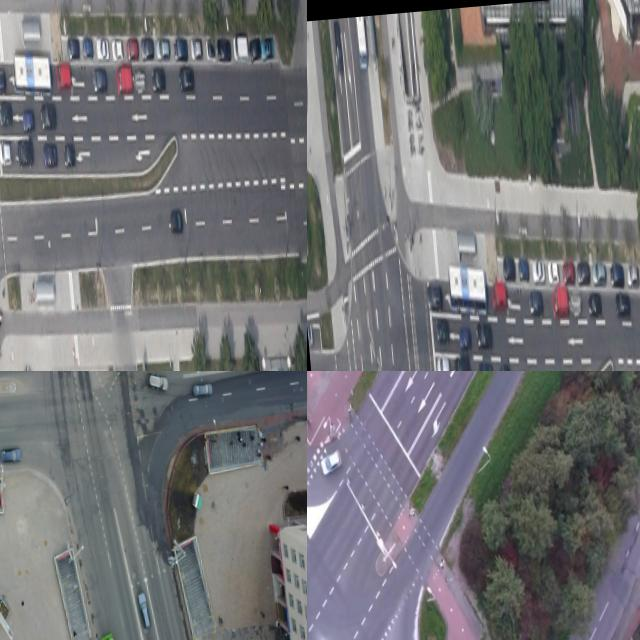UAI: (333, 20, 345, 80), (135, 589, 152, 631), (319, 449, 343, 476), (551, 285, 569, 319), (490, 278, 507, 312), (115, 64, 133, 95), (476, 320, 494, 351), (145, 371, 169, 393), (426, 280, 443, 311), (17, 137, 33, 167), (55, 62, 71, 92), (528, 288, 544, 318), (614, 289, 630, 319), (40, 102, 57, 130), (435, 315, 450, 346), (178, 66, 195, 93), (232, 34, 248, 61), (609, 261, 624, 289), (193, 379, 214, 399), (151, 66, 166, 93), (587, 290, 602, 317), (42, 142, 58, 167), (0, 446, 22, 464), (92, 68, 107, 93), (216, 36, 231, 61), (173, 36, 188, 61), (169, 208, 183, 234), (458, 324, 471, 352), (576, 260, 590, 285), (531, 259, 545, 284), (503, 255, 516, 281), (134, 66, 146, 94), (63, 143, 76, 168), (110, 37, 123, 62), (626, 262, 639, 287), (562, 260, 575, 285), (140, 36, 154, 59), (95, 37, 109, 60), (592, 262, 606, 285), (0, 100, 12, 126), (547, 259, 559, 285), (517, 256, 529, 282), (155, 38, 169, 60), (569, 292, 581, 317), (66, 37, 79, 60), (453, 354, 470, 371), (260, 38, 274, 58), (22, 109, 34, 132), (249, 37, 261, 60), (0, 140, 11, 165), (190, 36, 202, 58), (126, 38, 138, 60), (81, 37, 93, 59), (435, 354, 450, 371), (205, 38, 215, 61), (477, 361, 493, 371), (498, 360, 511, 371), (0, 65, 4, 95)
car: (446, 260, 487, 318), (12, 49, 52, 97)
